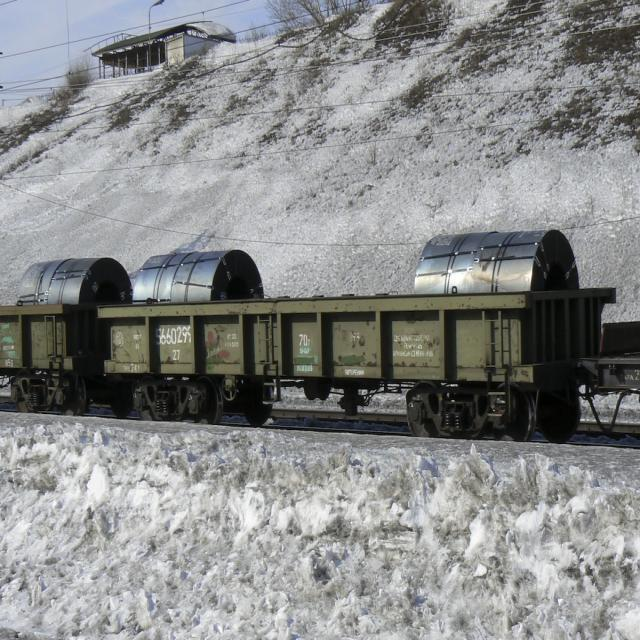wagon: (154, 323, 192, 349)
